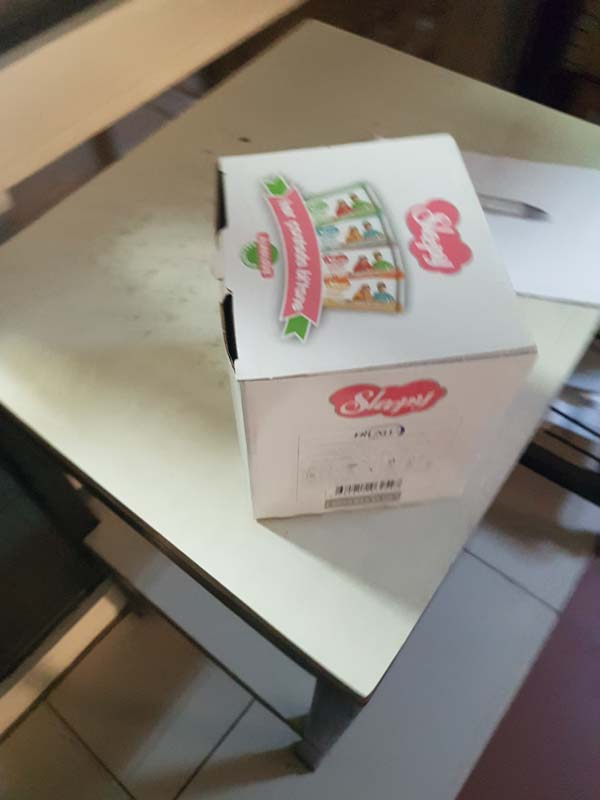sleepyogrencikoli: (197, 122, 548, 524)
